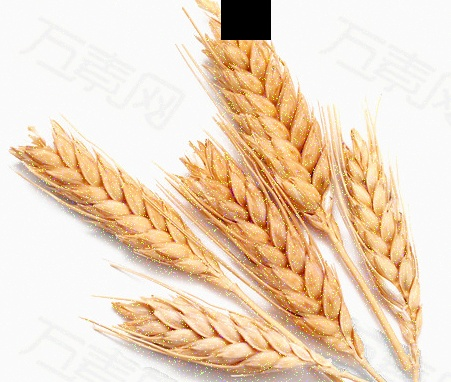wheat: (4, 113, 251, 315), (178, 135, 377, 369), (196, 4, 343, 238), (101, 289, 367, 377), (339, 141, 430, 377)
